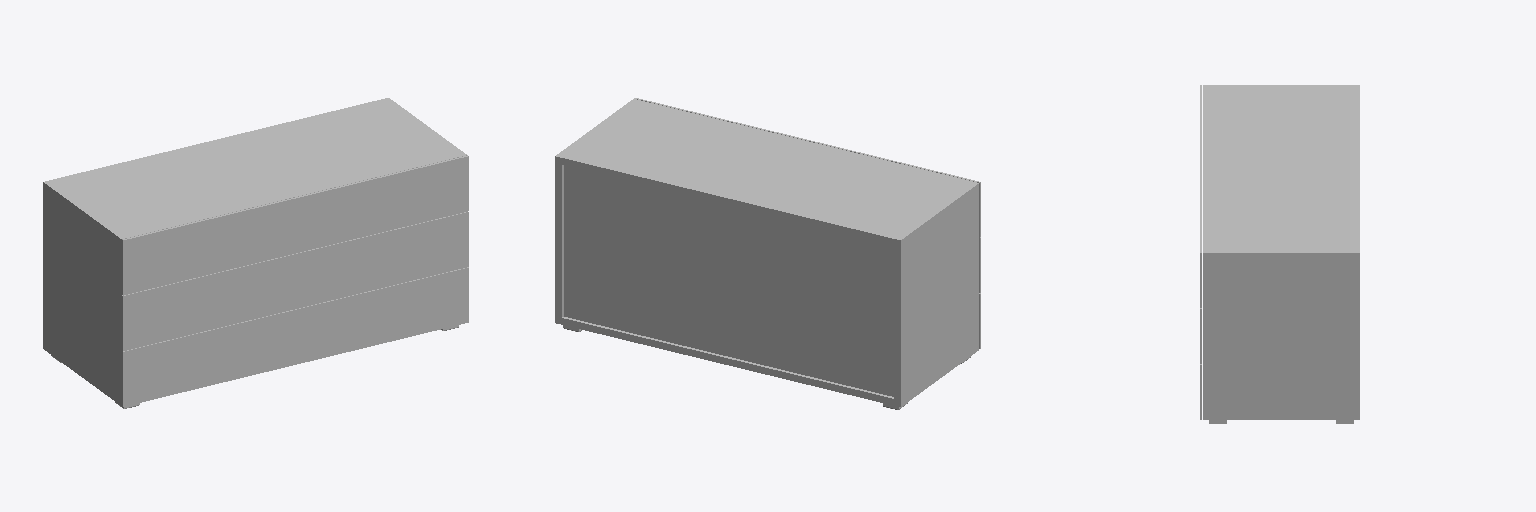
The model's file is locker.obj.
The picture shows the model from 3 angles: view 1: azimuth 30°, elevation 25°; view 2: azimuth 150°, elevation 25°; view 3: azimuth 270°, elevation 25°; orthographic projection.
Parts seen in each view (by area): view 1: Layer:draw_0, Layer:dra9_10, Layer:dr10_11, Layer:dr11_12, Layer:dra0_1; view 2: Layer:dra3_4, Layer:draw_0, Layer:dra0_1, Layer:dra2_3, Layer:dra1_2, Layer:dra9_10; view 3: Layer:draw_0, Layer:dra1_2.
Part boxes in pixels (x1,y1,x2,y2): Layer:draw_0: (43,98,466,240); Layer:dra9_10: (122,155,468,295); Layer:dr10_11: (122,212,468,350); Layer:dr11_12: (122,267,468,406); Layer:dra0_1: (43,184,121,405); Layer:dra3_4: (564,165,893,396); Layer:draw_0: (555,99,978,245); Layer:dra0_1: (894,186,978,406); Layer:dra2_3: (562,317,893,405); Layer:dra1_2: (555,158,563,324); Layer:dra9_10: (634,98,980,237); Layer:draw_0: (1203,85,1359,254); Layer:dra1_2: (1203,255,1359,419).
Size of the model in its own units: 1300 by 625 by 522.